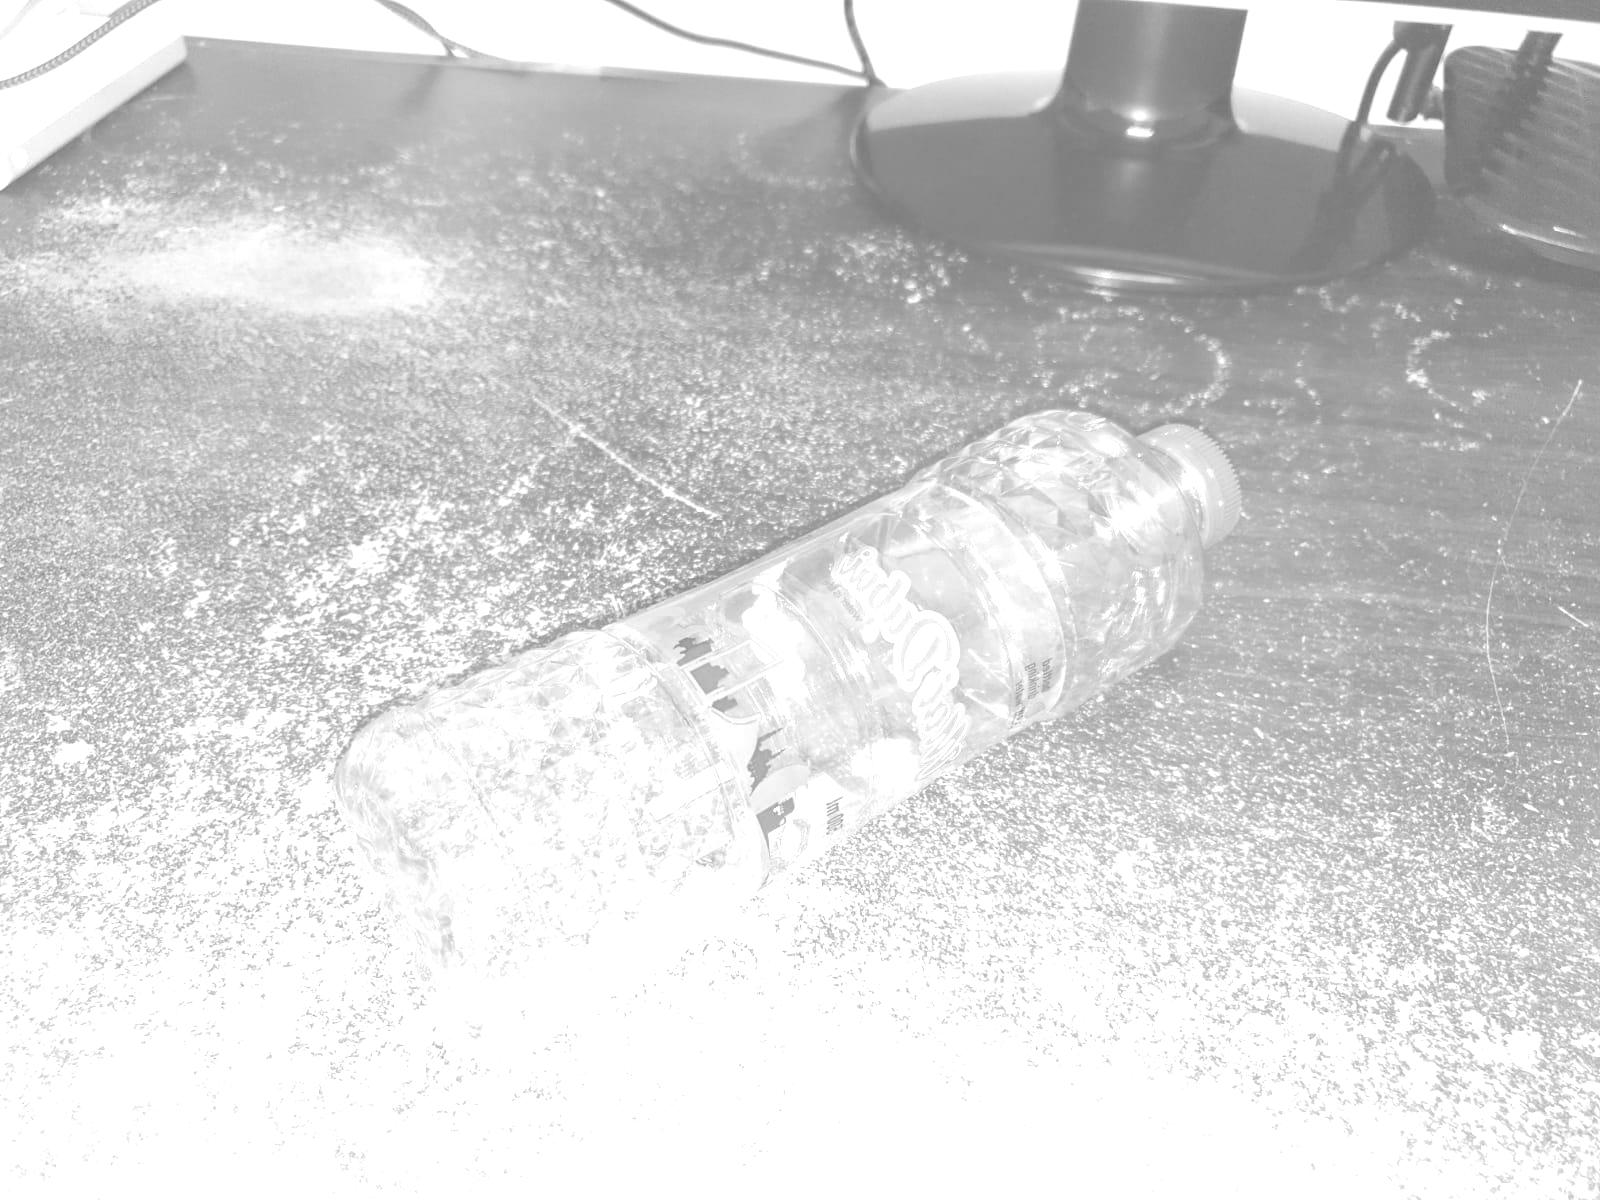bottle: (288, 381, 1256, 1045)
